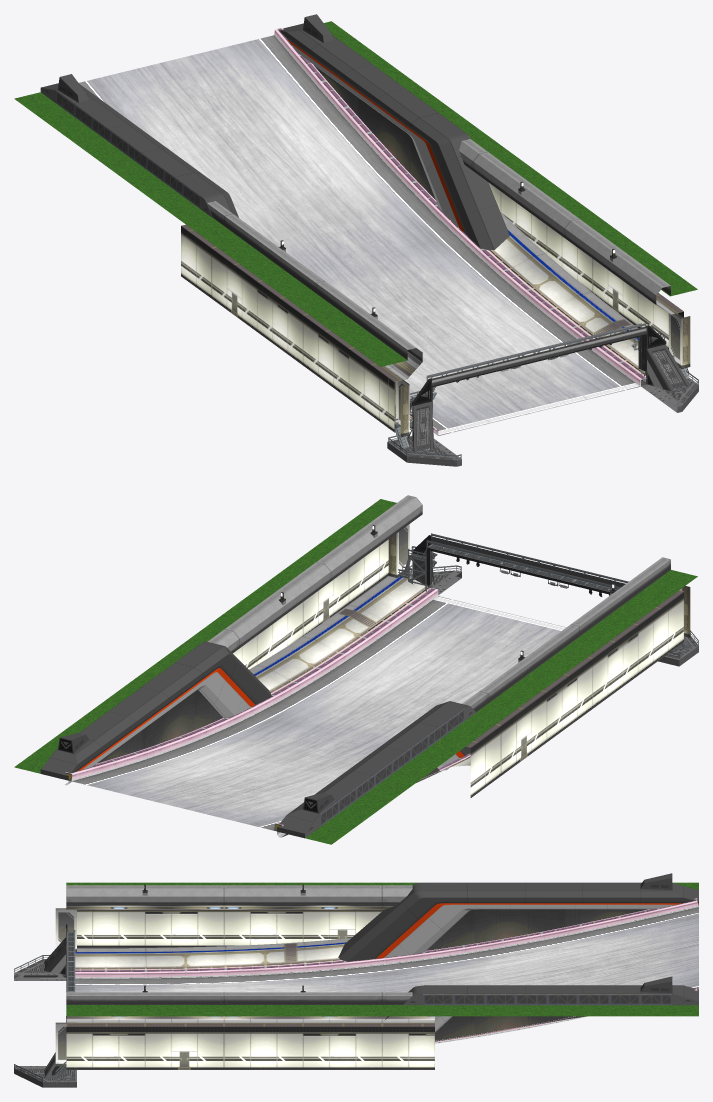
File: T4 - Checkpoint.fbx
3 renders of one model, top to bottom at view 1: azimuth 30°, elevation 25°; view 2: azimuth 150°, elevation 25°; view 3: azimuth 270°, elevation 25°, orthographic. The views are drawn at different scales.
Visible parts, largest first — view 1: straight_road, wall_straight_trench1, trench_gat8, trench_grass, gate, bridge, line; view 2: wall_straight_trench1, straight_road, trench_gat8, trench_grass, bridge, gate, line; view 3: wall_straight_trench1, trench_gat8, straight_road, trench_grass, gate, bridge.
Part boxes in pixels (x1,y1,x2,y2): straight_road: [79, 35, 640, 435]; wall_straight_trench1: [181, 27, 690, 436]; trench_gat8: [40, 14, 509, 250]; trench_grass: [14, 21, 697, 366]; gate: [387, 325, 698, 466]; bridge: [426, 323, 646, 387]; line: [438, 383, 639, 435]; wall_straight_trench1: [64, 495, 690, 831]; straight_road: [72, 596, 566, 830]; trench_gat8: [40, 641, 476, 838]; trench_grass: [14, 499, 697, 844]; bridge: [422, 533, 628, 596]; gate: [398, 535, 698, 666]; line: [433, 596, 565, 630]; wall_straight_trench1: [55, 885, 698, 1069]; trench_gat8: [338, 873, 698, 1041]; straight_road: [75, 907, 698, 992]; trench_grass: [66, 882, 698, 1016]; gate: [14, 924, 76, 1087]; bridge: [66, 929, 75, 992].
Size of the model in its own units: 6400 by 2207 by 13856.
